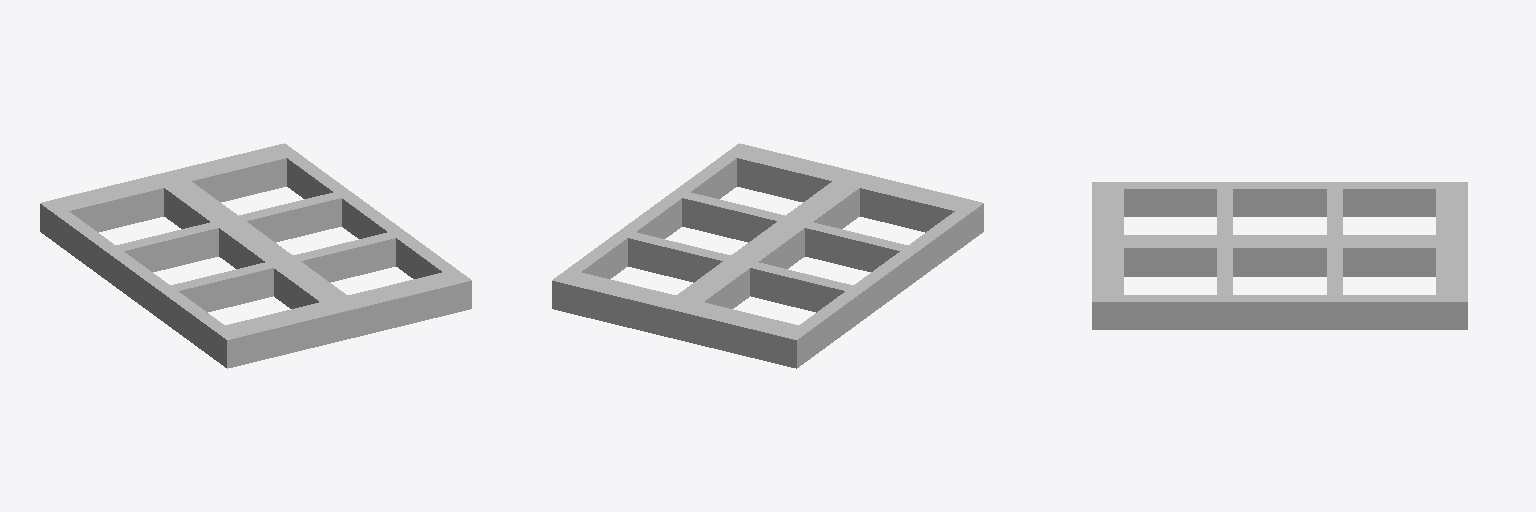
The model's file is finestra_1.obj.
The picture shows the model from 3 angles: view 1: azimuth 30°, elevation 25°; view 2: azimuth 150°, elevation 25°; view 3: azimuth 270°, elevation 25°; orthographic projection.
Bounding box in the file's own units: 0.9 × 0.1 × 1.19.